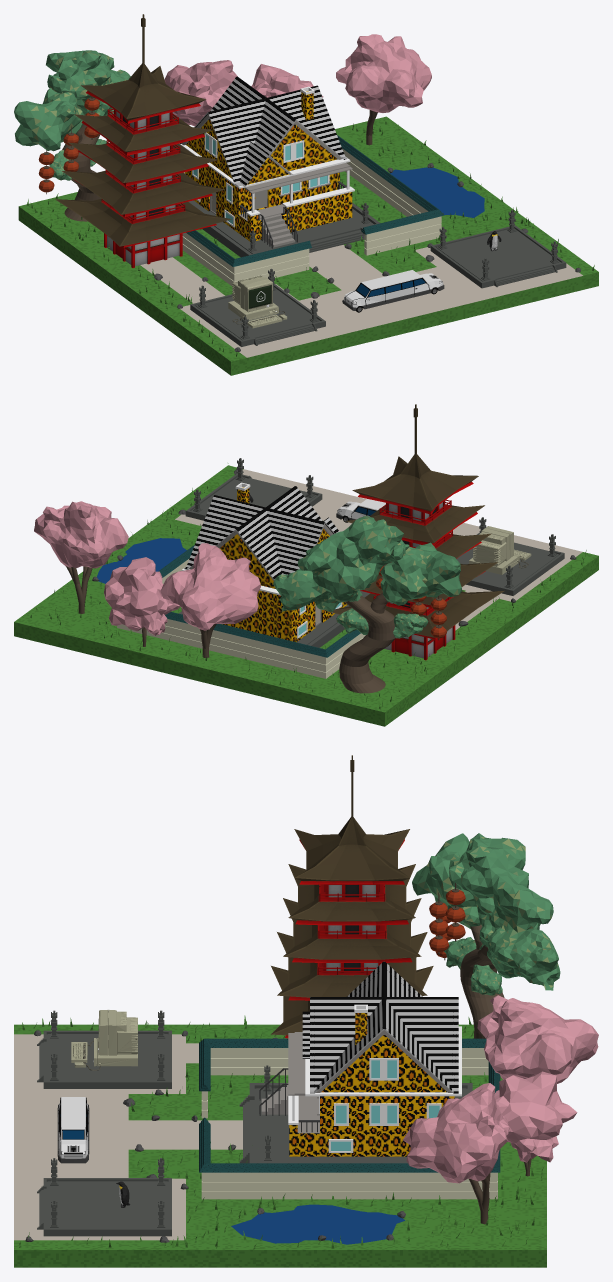
3 views of the same model, one above another, from view 1: azimuth 30°, elevation 25°; view 2: azimuth 150°, elevation 25°; view 3: azimuth 270°, elevation 25° (orthographic). The views are drawn at different scales.
Parts seen in each view (by area): view 1: Cube.005, Cube.637, VEHICLES_LIMOUSINE, OBJRANDOM_RETRO_PC; view 2: Cube.005, Cube.637, OBJRANDOM_RETRO_PC, VEHICLES_LIMOUSINE; view 3: Cube.005, Cube.637, OBJRANDOM_RETRO_PC, VEHICLES_LIMOUSINE.
Part boxes in pixels (<box>): Cube.005: <box>14,14,598,375</box>; Cube.637: <box>179,76,354,248</box>; VEHICLES_LIMOUSINE: <box>342,270,444,312</box>; OBJRANDOM_RETRO_PC: <box>228,275,287,328</box>; Cube.005: <box>14,404,598,726</box>; Cube.637: <box>181,482,347,642</box>; OBJRANDOM_RETRO_PC: <box>469,526,531,574</box>; VEHICLES_LIMOUSINE: <box>336,499,385,522</box>; Cube.005: <box>14,755,598,1267</box>; Cube.637: <box>259,961,461,1156</box>; OBJRANDOM_RETRO_PC: <box>71,1010,137,1070</box>; VEHICLES_LIMOUSINE: <box>57,1097,89,1163</box>.
Bounding box in the file's own units: 4528 × 2842 × 4389.
40 materials, 6 textured.
